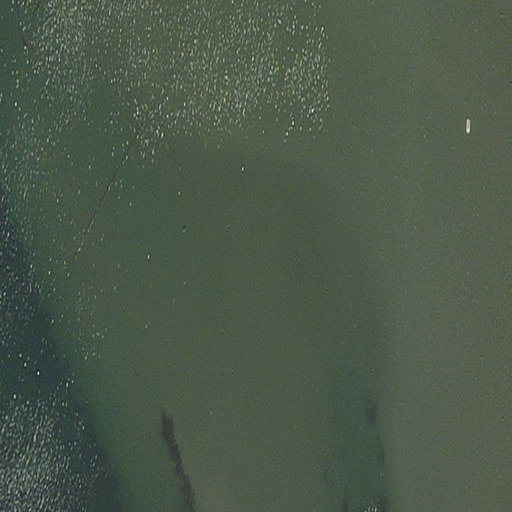ship: (465, 118, 472, 134)
